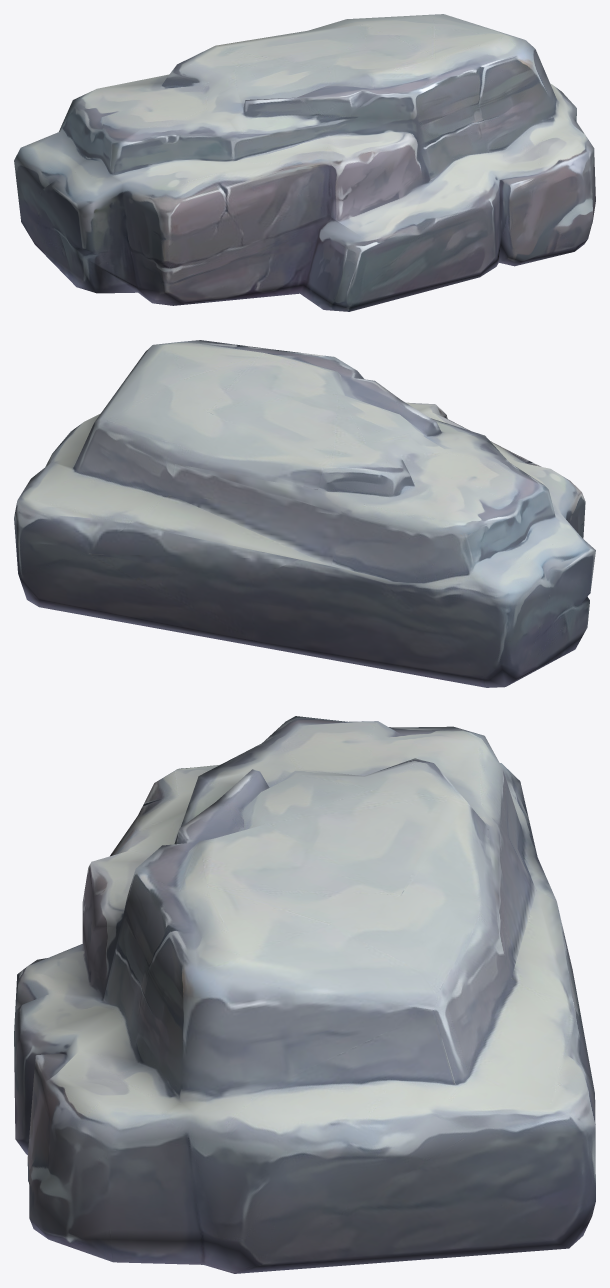
File: snow-boulder.glb
The picture shows the model from 3 angles, top to bottom: view 1: azimuth 30°, elevation 25°; view 2: azimuth 150°, elevation 25°; view 3: azimuth 270°, elevation 25°; orthographic projection. The views are drawn at different scales.
Parts seen in each view (by area): view 1: geometry_0; view 2: geometry_0; view 3: geometry_0.
Boxes of the visible parts, bbox=[...] form: geometry_0: bbox=[14, 14, 595, 311]; geometry_0: bbox=[14, 340, 595, 687]; geometry_0: bbox=[14, 716, 595, 1273].
Size of the model in its own units: 0.957 by 0.3276 by 0.6235.
1 material, 1 textured.
